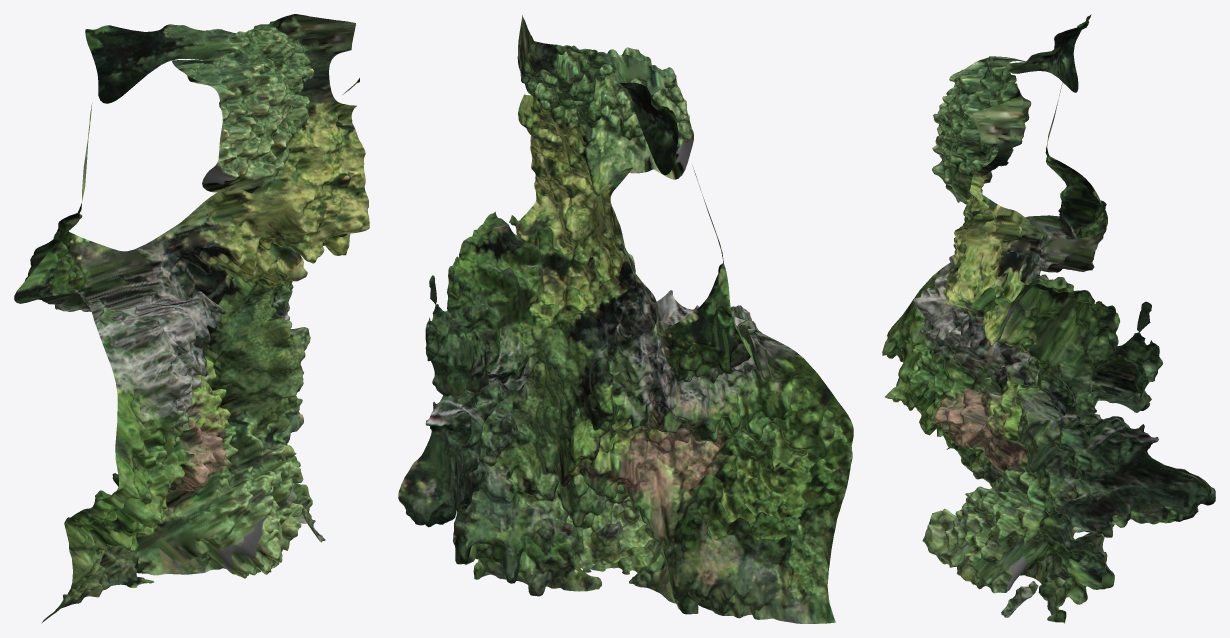
Rendered from Tile_+001_+012.fbx.
3 renders of one model, left to right at view 1: azimuth 30°, elevation 25°; view 2: azimuth 150°, elevation 25°; view 3: azimuth 270°, elevation 25°, orthographic. The views are drawn at different scales.
Visible parts, largest first — view 1: DefaultName; view 2: DefaultName; view 3: DefaultName.
Boxes of the visible parts, x1,y1,x2,y2 form: DefaultName: (14,14,369,623); DefaultName: (398,15,853,623); DefaultName: (882,14,1215,623).
Bounding box in the file's own units: 14.05 × 22.54 × 13.35.
